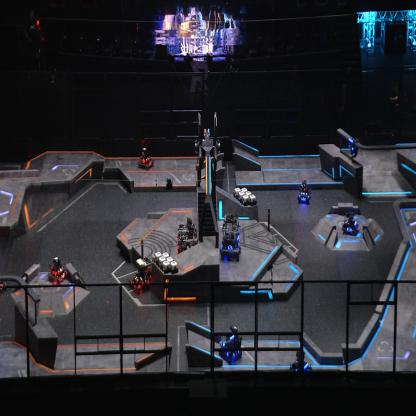car: (220, 212, 242, 262), (218, 324, 243, 364), (128, 254, 153, 294), (288, 348, 314, 382), (176, 222, 198, 258), (48, 256, 68, 284), (341, 211, 359, 237), (136, 146, 154, 170), (296, 180, 312, 204)
